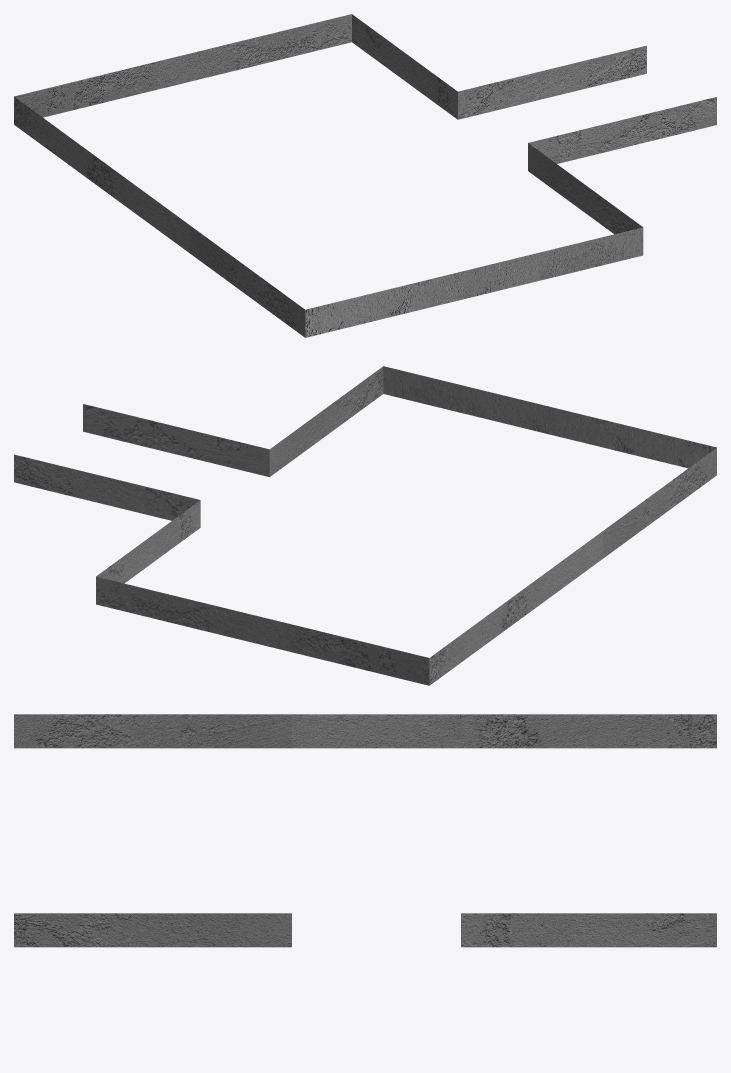
The model's file is walls.obj.
The picture shows the model from 3 angles, top to bottom: view 1: azimuth 30°, elevation 25°; view 2: azimuth 150°, elevation 25°; view 3: azimuth 270°, elevation 25°; orthographic projection. The views are drawn at different scales.
Parts seen in each view (by area): view 1: Cube.001; view 2: Cube.001; view 3: Cube.001.
Boxes of the visible parts, x1,y1,x2,y2 form: Cube.001: (14, 14, 716, 337); Cube.001: (14, 366, 716, 685); Cube.001: (14, 714, 716, 947).
Size of the model in its own units: 35.92 by 1.84 by 34.4.
1 material, 1 textured.
